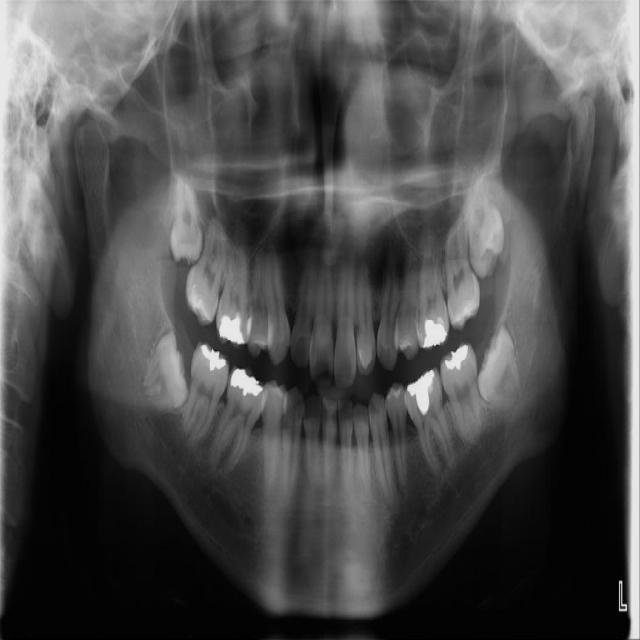Filling: (405, 371, 436, 414), (216, 304, 250, 342), (439, 345, 472, 379), (227, 368, 267, 396), (189, 276, 212, 317), (419, 319, 448, 349), (202, 344, 226, 369)
impacted tooth: (137, 332, 186, 412), (468, 172, 505, 277), (478, 322, 520, 409), (172, 169, 203, 264)
